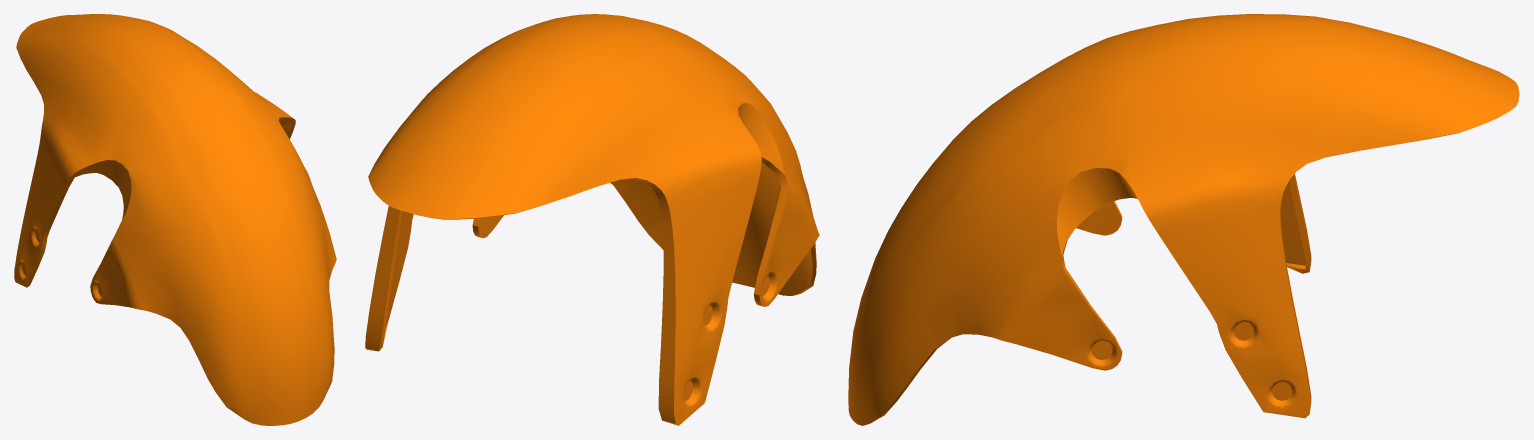
File: FrontFender_STOCK.glb
The picture shows the model from 3 angles, left to right: view 1: azimuth 30°, elevation 25°; view 2: azimuth 150°, elevation 25°; view 3: azimuth 270°, elevation 25°; orthographic projection. The views are drawn at different scales.
Visible parts, largest first — view 1: FrontFender_Stock; view 2: FrontFender_Stock; view 3: FrontFender_Stock.
Boxes of the visible parts, x1=… form: FrontFender_Stock: x1=14, y1=14, x2=336, y2=425; FrontFender_Stock: x1=365, y1=14, x2=819, y2=425; FrontFender_Stock: x1=848, y1=14, x2=1519, y2=425.
Size of the model in its own units: 0.2869 by 0.332 by 0.5266.
